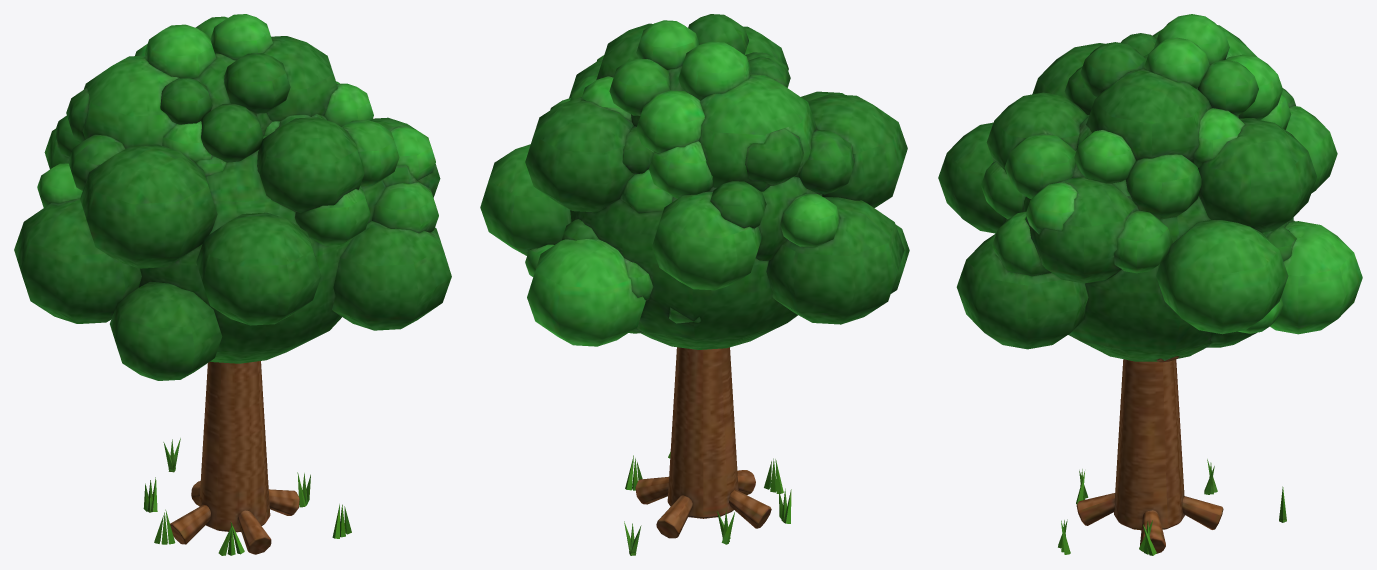
Rendered from lemon_tree.glb.
The picture shows the model from 3 angles, left to right: view 1: azimuth 30°, elevation 25°; view 2: azimuth 150°, elevation 25°; view 3: azimuth 270°, elevation 25°; orthographic projection.
Parts seen in each view (by area): view 1: crown, lemon_tree; view 2: crown, lemon_tree; view 3: crown, lemon_tree.
Part boxes in pixels (left/top/right/bottom): crown: left=14, top=14, right=451, bottom=380; lemon_tree: left=143, top=361, right=351, bottom=555; crown: left=480, top=14, right=909, bottom=349; lemon_tree: left=624, top=347, right=791, bottom=555; crown: left=938, top=14, right=1362, bottom=361; lemon_tree: left=1058, top=356, right=1286, bottom=555.
Size of the model in its own units: 1.11 by 1.37 by 1.06.
1 material, 1 textured.
